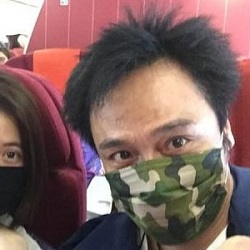mask: (97, 148, 226, 240)
